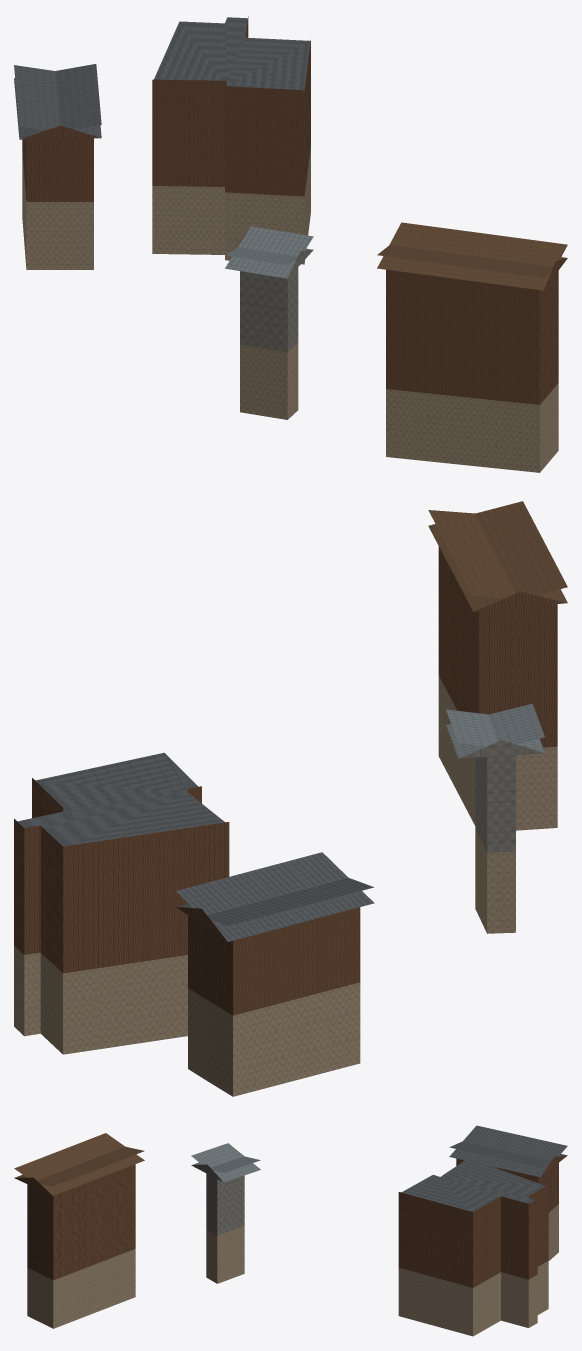
The model's file is bld_c-3_17_537.gltf.
The picture shows the model from 3 angles, top to bottom: view 1: azimuth 30°, elevation 25°; view 2: azimuth 150°, elevation 25°; view 3: azimuth 270°, elevation 25°; orthographic projection. The views are drawn at different scales.
Visible parts, largest first — view 1: bld_c-3_17_537; view 2: bld_c-3_17_537; view 3: bld_c-3_17_537.
Part boxes in pixels (x1,y1,x2,y2): bld_c-3_17_537: (14,16,567,472); bld_c-3_17_537: (14,501,567,1096); bld_c-3_17_537: (14,1125,567,1336).
Bounding box in the file's own units: 22.72 × 15.9 × 52.81.
8 materials, 8 textured.
